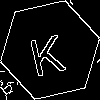K: (25, 25, 67, 77)
